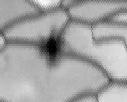good_void: (36, 27, 69, 72)
